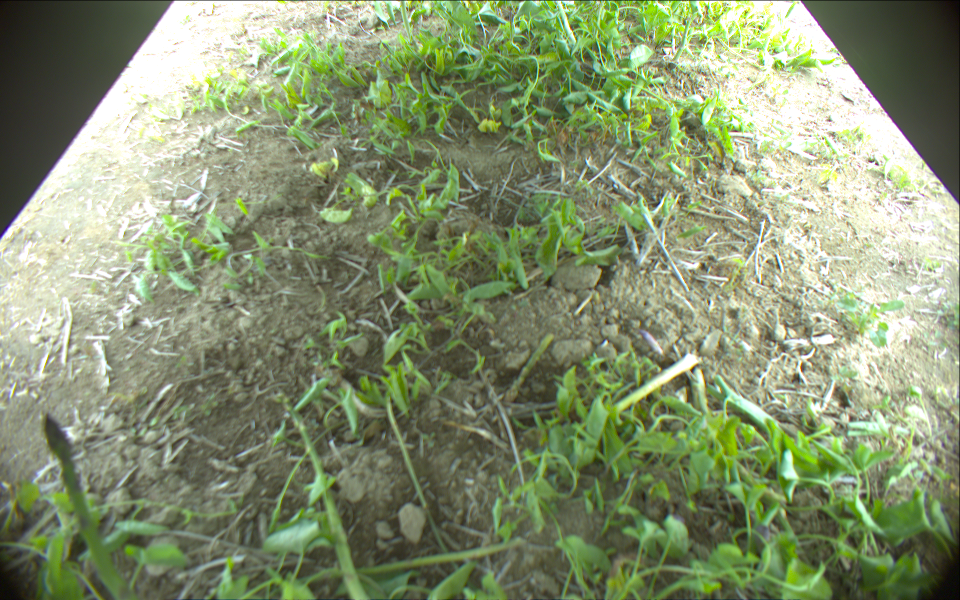aspa: (44, 413, 131, 600), (289, 404, 368, 600), (293, 536, 528, 584), (604, 353, 704, 419), (502, 331, 552, 405), (554, 1, 579, 44), (674, 16, 694, 60), (399, 1, 411, 39)
